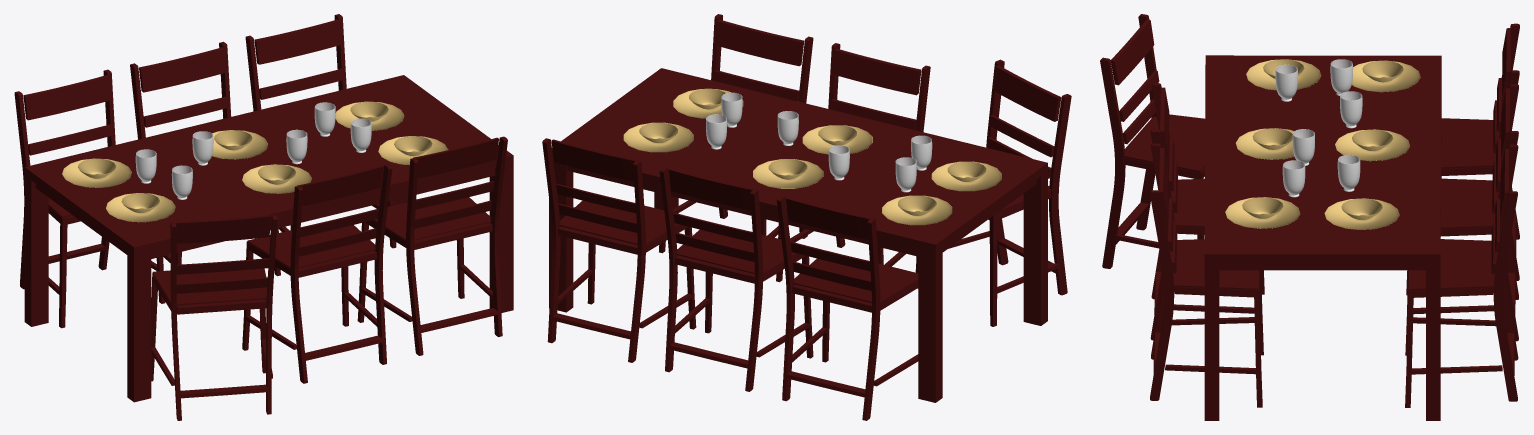
File: IKEA-Markor_Dining_Table-3D.obj
3 renders of one model, left to right at view 1: azimuth 30°, elevation 25°; view 2: azimuth 150°, elevation 25°; view 3: azimuth 270°, elevation 25°, orthographic. The views are drawn at different scales.
Parts seen in each view (by area): view 1: Box01, Object06, Object05, Object07, Object02, Object04, Object03, Rectangle06, Rectangle05, Rectangle04, Rectangle08, Rectangle07 (+7 smaller); view 2: Box01, Object03, Object04, Object02, Object07, Object06, Object05, Rectangle08, Rectangle06, Rectangle05, Rectangle07, Rectangle04 (+7 smaller); view 3: Box01, Object07, Object04, Object05, Object03, Object02, Object06, Rectangle08, Rectangle03, Rectangle07, Rectangle06, Rectangle04 (+7 smaller).
Boxes of the visible parts, box(x1,y1,x2,y2) form: Box01: box(24, 75, 513, 402); Object06: box(242, 164, 392, 383); Object05: box(357, 136, 507, 355); Object07: box(151, 215, 277, 420); Object02: box(14, 69, 165, 328); Object04: box(245, 14, 396, 248); Object03: box(130, 41, 280, 276); Rectangle06: box(62, 158, 131, 187); Rectangle05: box(106, 193, 175, 222); Rectangle04: box(242, 164, 311, 193); Rectangle08: box(335, 101, 404, 130); Rectangle07: box(212, 130, 267, 159); Box01: box(549, 68, 1047, 402); Object03: box(659, 167, 813, 391); Object04: box(542, 138, 696, 362); Object02: box(776, 196, 918, 420); Object07: box(915, 59, 1071, 326); Object06: box(776, 43, 930, 282); Object05: box(659, 14, 813, 253); Rectangle08: box(623, 122, 693, 152); Rectangle06: box(882, 195, 952, 225); Rectangle05: box(931, 161, 1001, 191); Rectangle07: box(753, 159, 823, 188); Rectangle04: box(802, 125, 872, 154); Box01: box(1204, 55, 1441, 420); Object07: box(1100, 14, 1205, 268); Object04: box(1405, 144, 1518, 407); Object05: box(1150, 143, 1263, 407); Object03: box(1406, 84, 1518, 341); Object02: box(1441, 23, 1519, 280); Object06: box(1150, 83, 1264, 342); Rectangle08: box(1324, 198, 1399, 229); Rectangle03: box(1225, 197, 1300, 228); Rectangle07: box(1335, 129, 1409, 161); Rectangle06: box(1352, 60, 1420, 92); Rectangle04: box(1235, 128, 1294, 159).
Size of the model in its own units: 189 by 94.19 by 169.
